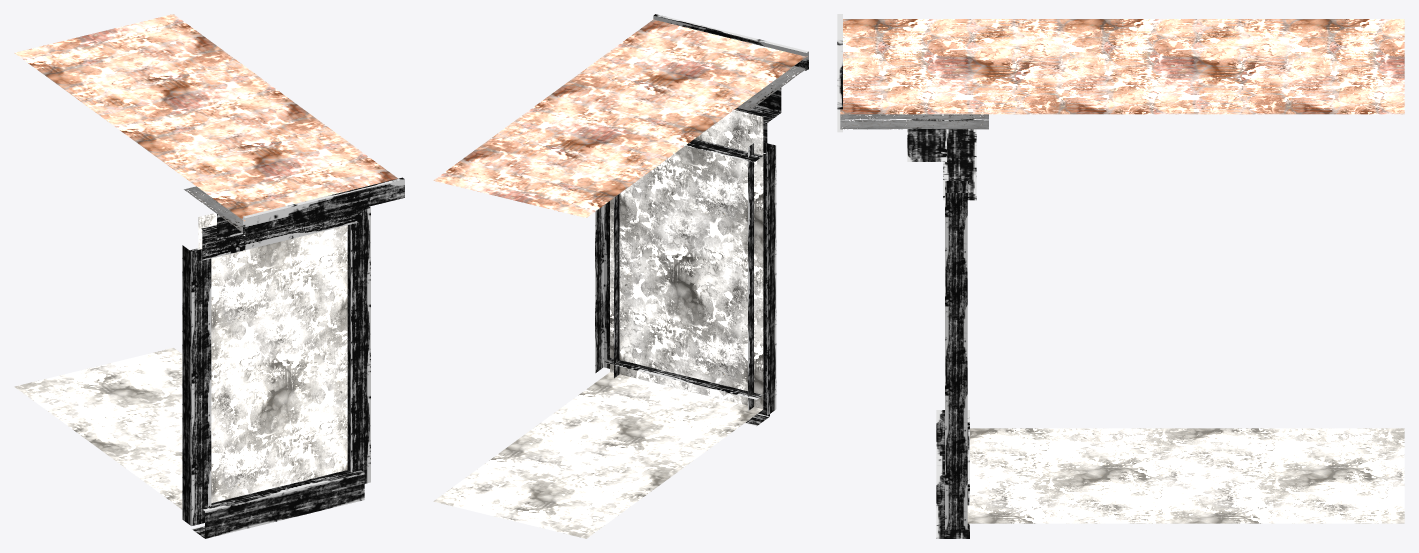
The model's file is SM_roof_A_part_01_04.fbx.
3 views of the same model, side by side, from view 1: azimuth 30°, elevation 25°; view 2: azimuth 150°, elevation 25°; view 3: azimuth 270°, elevation 25° (orthographic). The views are drawn at different scales.
Parts seen in each view (by area): view 1: SM_roof_A_part_01_04_LOD0; view 2: SM_roof_A_part_01_04_LOD0; view 3: SM_roof_A_part_01_04_LOD0.
Boxes of the visible parts, x1=… form: SM_roof_A_part_01_04_LOD0: x1=14, y1=14, x2=404, y2=538; SM_roof_A_part_01_04_LOD0: x1=433, y1=14, x2=808, y2=538; SM_roof_A_part_01_04_LOD0: x1=837, y1=14, x2=1404, y2=538.
Bounding box in the file's own units: 225 × 503 × 420.
5 materials, 5 textured.
